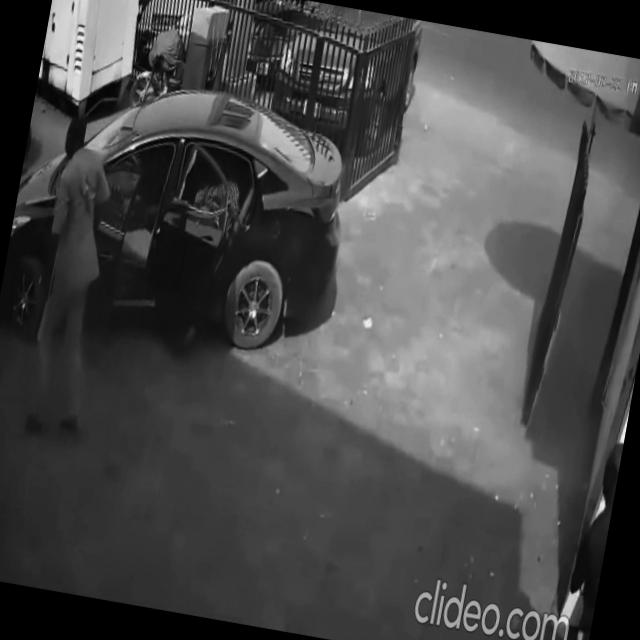gun: (208, 193, 256, 251)
person: (9, 101, 141, 442)
person with a gun: (179, 150, 263, 272)
